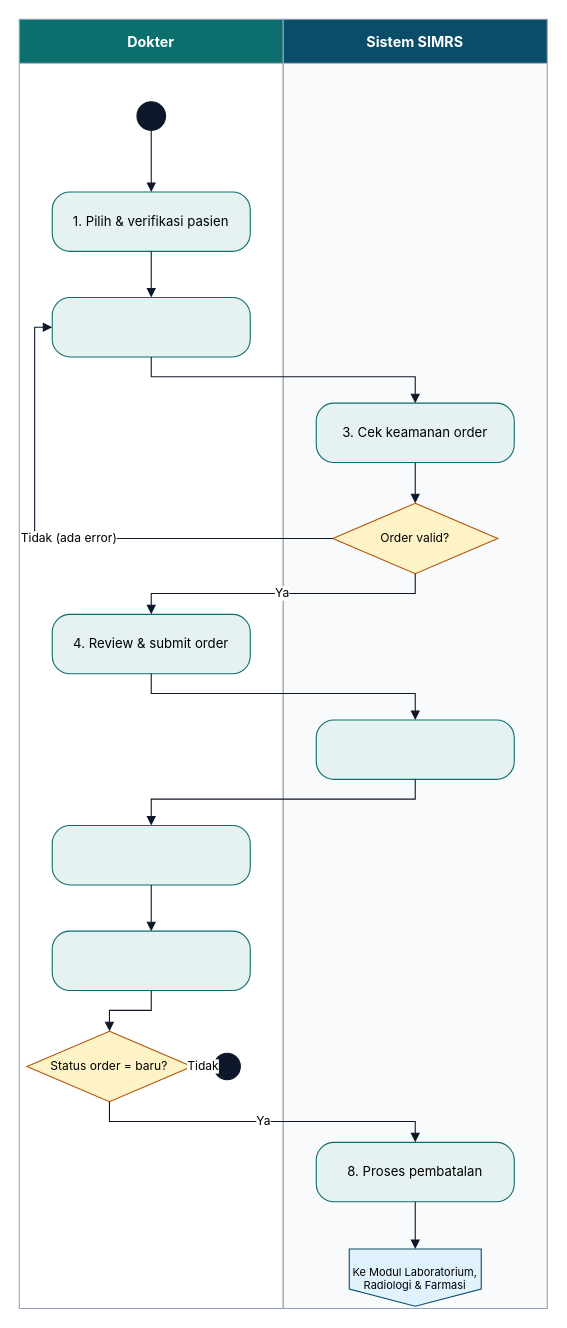
Some shapes in this 567 by 1328 pixel diagram are drawn without their labels. The centre of each missing label's shape, as x and y in pixels:
2. Tambah item order: the point at 150,326
5. Simpan & teruskan order: the point at 414,749
6. Pantau status order: the point at 150,854
7. Batalkan order (opsional): the point at 150,960
Pembatalan ditolak (order sudah diproses): the point at 226,1066
